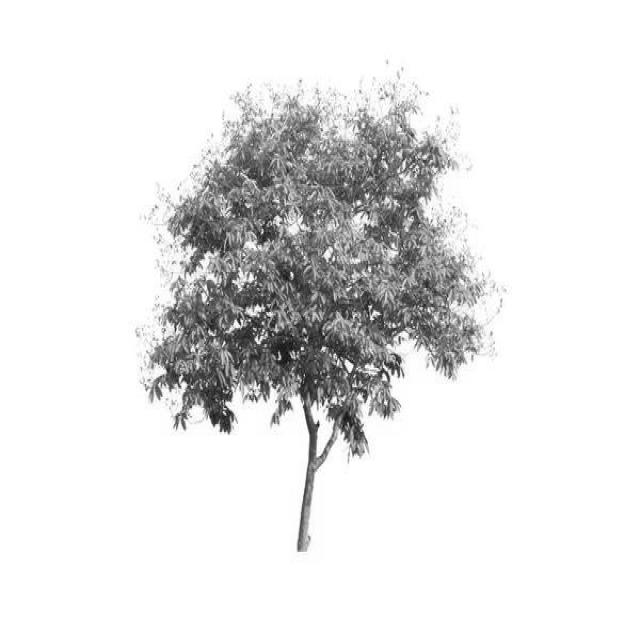Tree: (150, 96, 483, 551)
